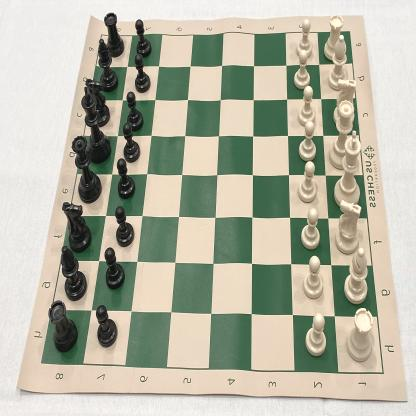black-bishop: (60, 245, 87, 300), (96, 37, 117, 93)
black-king: (80, 89, 111, 164)
black-knight: (61, 200, 92, 250), (83, 77, 111, 127)
black-pawn: (102, 245, 128, 292), (93, 304, 118, 351), (114, 204, 138, 247), (116, 158, 138, 200), (124, 90, 144, 132), (121, 123, 141, 164), (135, 17, 152, 59), (133, 54, 150, 94)
black-queen: (70, 132, 102, 205)
black-rook: (47, 300, 79, 354), (104, 8, 126, 59)
white-bishop: (342, 247, 370, 305), (328, 34, 350, 90)
white-king: (334, 128, 364, 210)
white-knight: (336, 199, 364, 254), (331, 78, 358, 125)
white-pawn: (304, 312, 330, 357), (303, 256, 326, 302), (300, 206, 322, 251), (297, 160, 319, 204), (297, 120, 318, 160), (299, 85, 318, 127), (296, 17, 315, 58), (294, 50, 312, 92)
white-queen: (329, 100, 356, 171)
white-rook: (346, 306, 376, 364), (323, 11, 346, 62)
